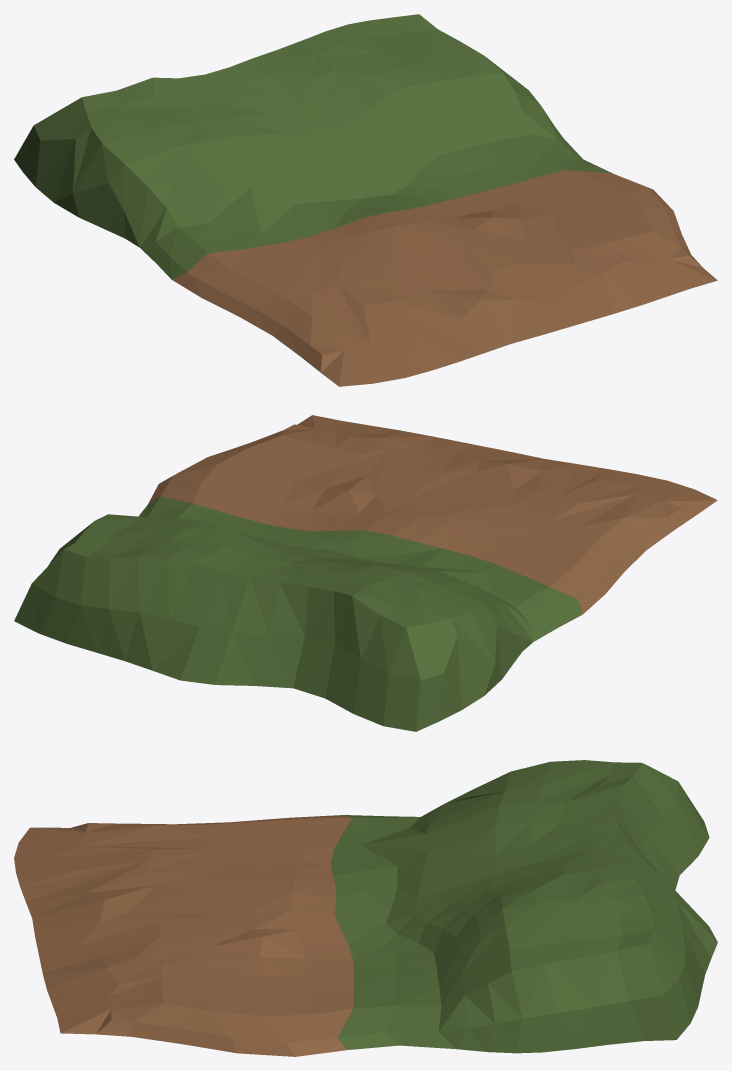
File: Terain_1 Asia.fbx
3 renders of one model, top to bottom at view 1: azimuth 30°, elevation 25°; view 2: azimuth 150°, elevation 25°; view 3: azimuth 270°, elevation 25°, orthographic. The views are drawn at different scales.
Parts seen in each view (by area): view 1: Terain_1; view 2: Terain_1; view 3: Terain_1.
Part boxes in pixels (bbox=[...]): Terain_1: bbox=[14, 14, 717, 386]; Terain_1: bbox=[14, 415, 717, 731]; Terain_1: bbox=[14, 760, 717, 1056].
Bounding box in the file's own units: 46.07 × 8.03 × 56.48.
